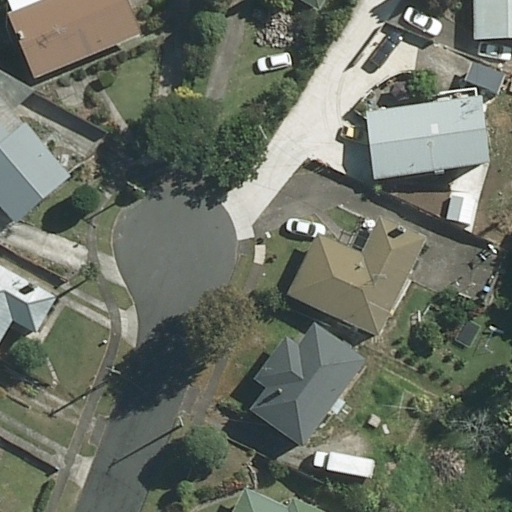DT: (103, 361, 128, 378), (174, 410, 188, 430)
